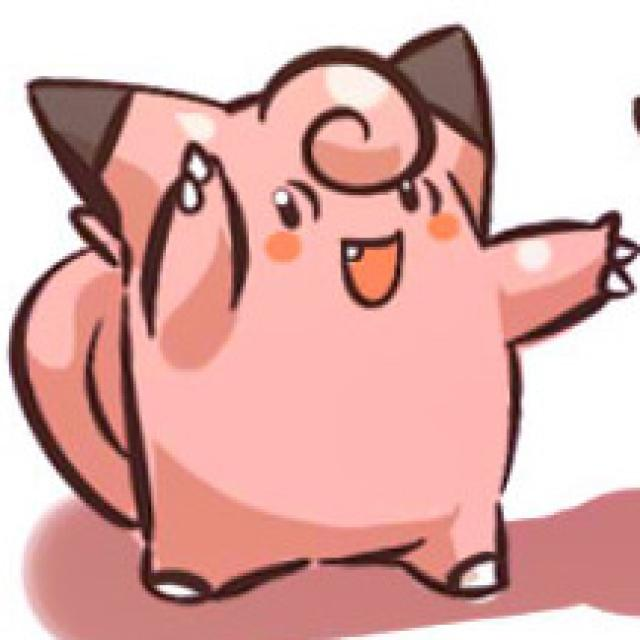Clefairy: (26, 46, 525, 594)
